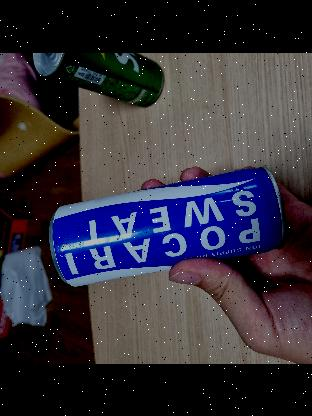Can: (38, 154, 290, 284)
